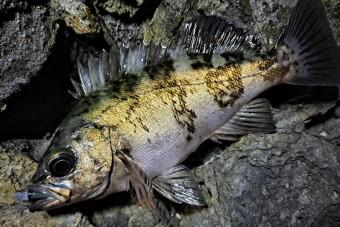fish: (25, 0, 339, 212)
